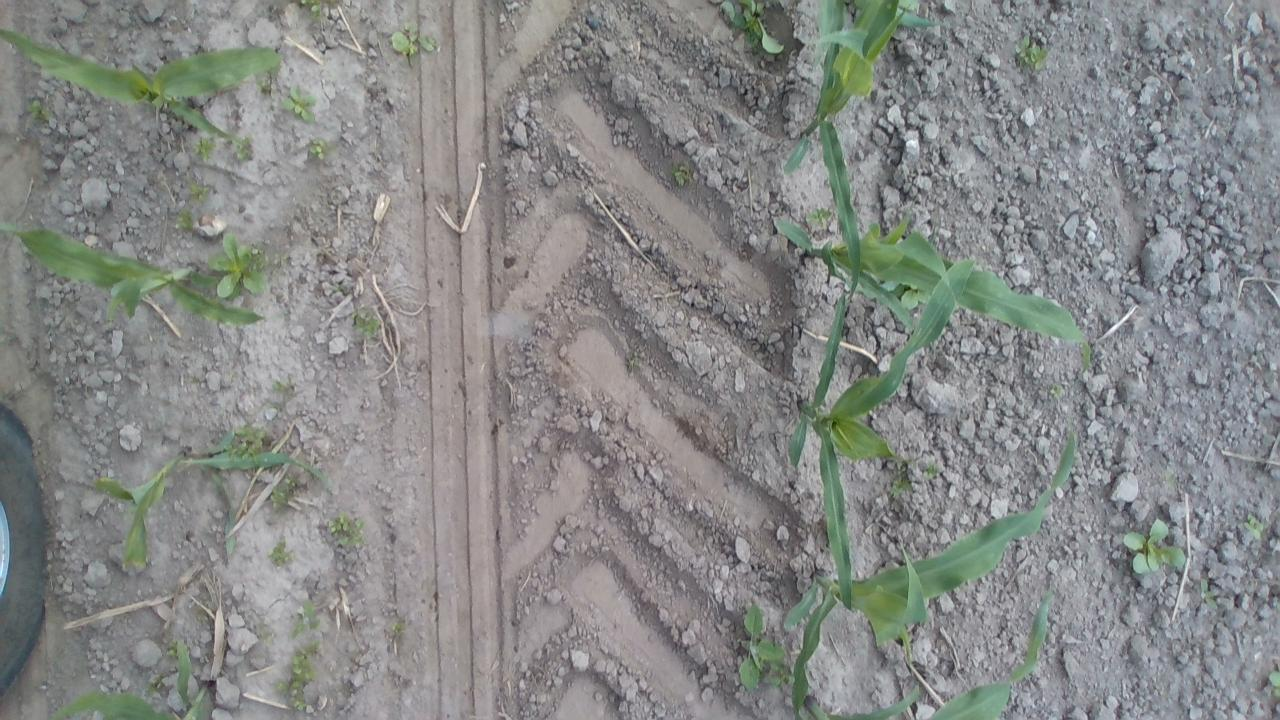Maize: (779, 434, 1077, 720), (785, 258, 978, 614), (768, 210, 1094, 376), (782, 0, 912, 301), (88, 420, 332, 578), (806, 576, 1054, 720), (1, 24, 285, 146), (0, 218, 270, 330), (48, 633, 216, 720), (895, 1, 946, 31)
Weeds: (729, 598, 784, 694), (204, 231, 271, 298), (710, 0, 786, 59), (1121, 516, 1191, 580), (275, 640, 321, 712), (389, 20, 436, 59), (278, 85, 320, 123), (288, 598, 324, 640), (1012, 31, 1048, 72), (328, 509, 364, 548), (268, 473, 300, 512), (350, 308, 386, 338), (889, 455, 914, 498), (232, 424, 266, 452), (230, 136, 259, 166), (299, 0, 342, 20), (668, 158, 694, 188), (803, 206, 836, 228), (268, 536, 290, 568), (186, 174, 211, 202), (1243, 509, 1264, 540), (190, 136, 214, 162), (1200, 578, 1220, 608), (26, 100, 50, 124), (174, 208, 197, 233), (904, 284, 926, 308), (1267, 663, 1280, 700), (922, 459, 942, 483), (772, 666, 792, 688), (308, 138, 326, 159), (1162, 466, 1180, 486), (256, 626, 273, 646), (193, 606, 210, 624), (146, 680, 162, 698), (164, 640, 178, 660), (1048, 382, 1063, 398), (390, 618, 405, 634), (274, 379, 288, 393)
